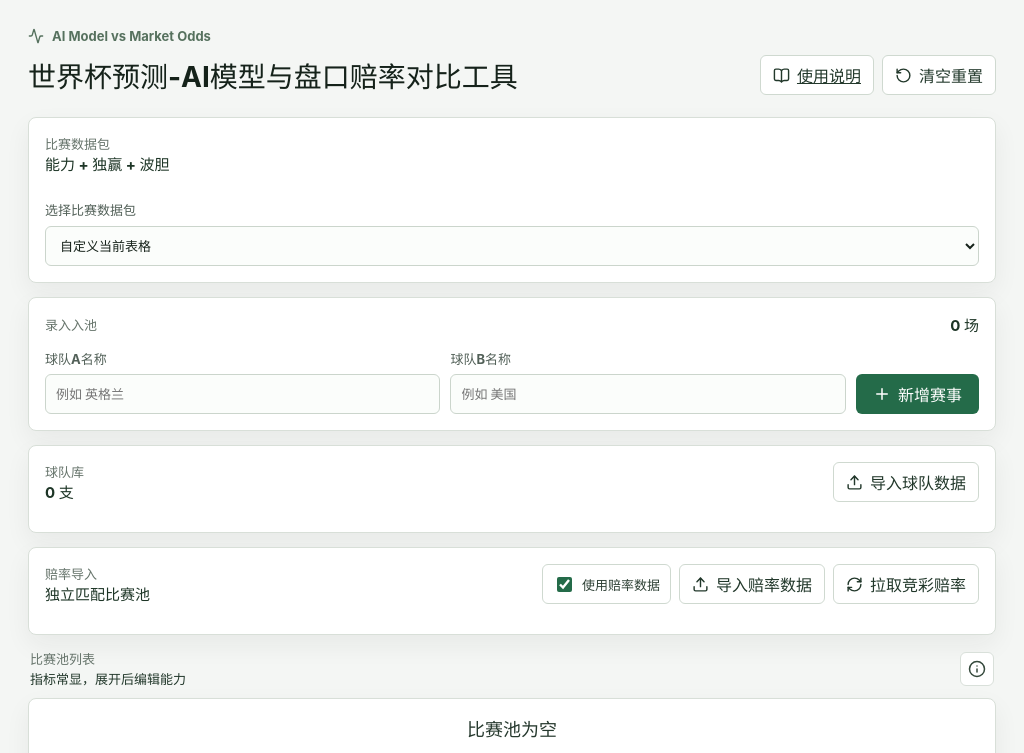
Test case: App › shows metric insights on collapsed match cards and opens the global guide modal
The width and height of the screenshot is (1024, 753).
Type "英格兰" into the field labelled "球队A名称". click: (243, 394)
box: [45, 374, 440, 414]
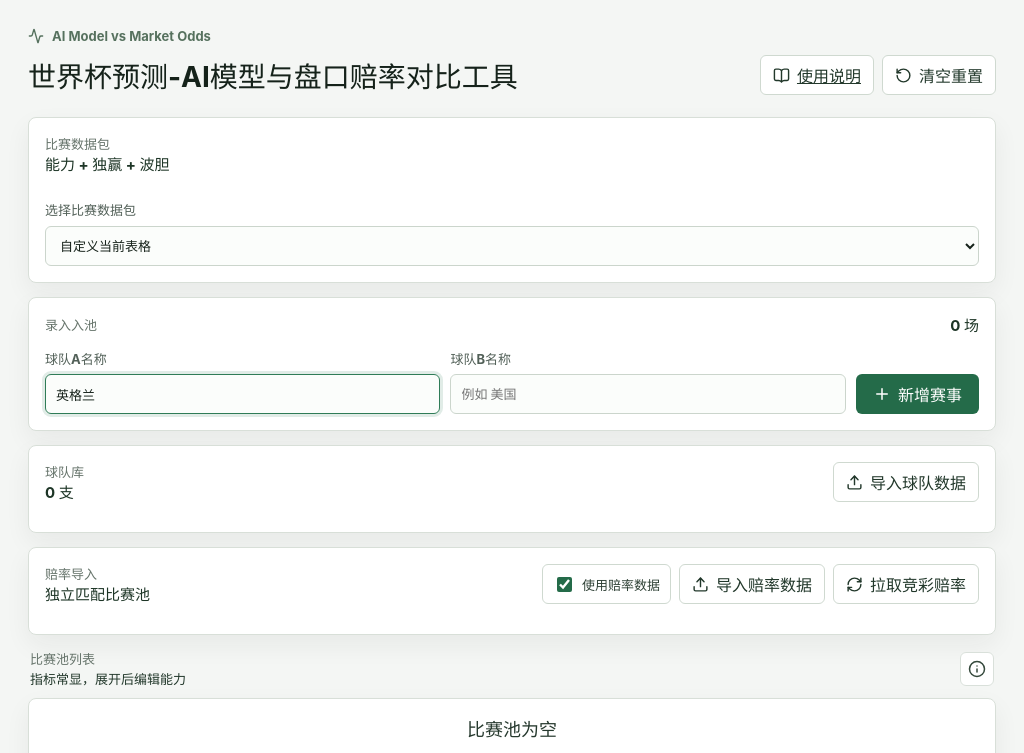
Type "克罗地亚" into the field labelled "球队B名称". click: (648, 394)
box: [450, 374, 846, 414]
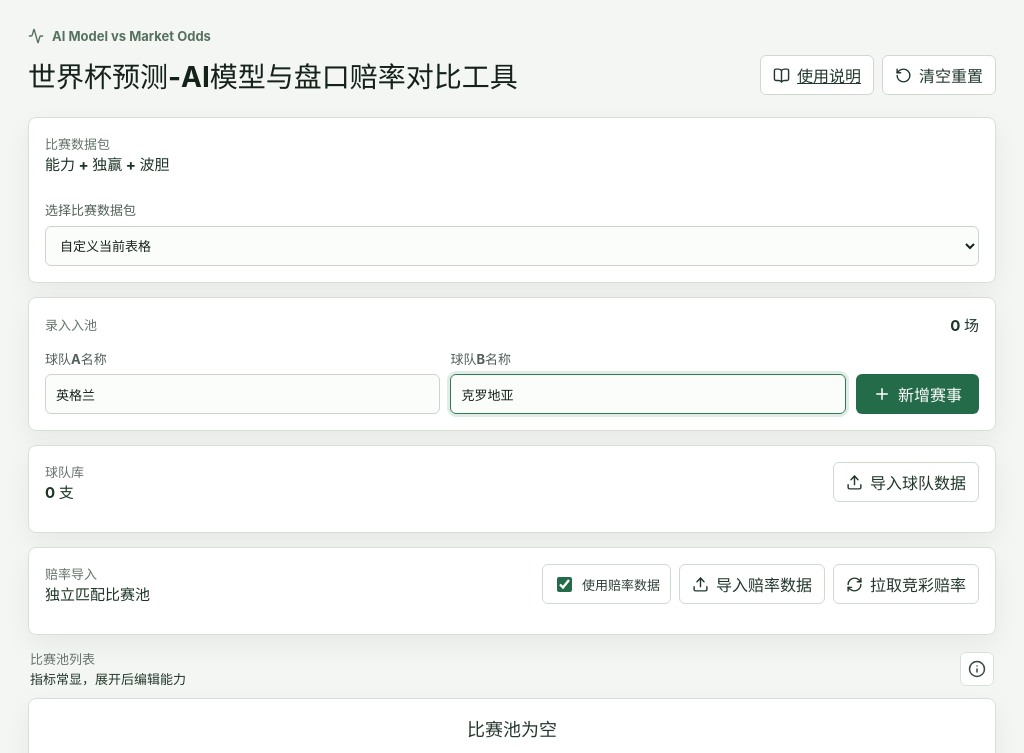
Click the button "新增赛事". click: (918, 394)
box: [856, 374, 979, 414]
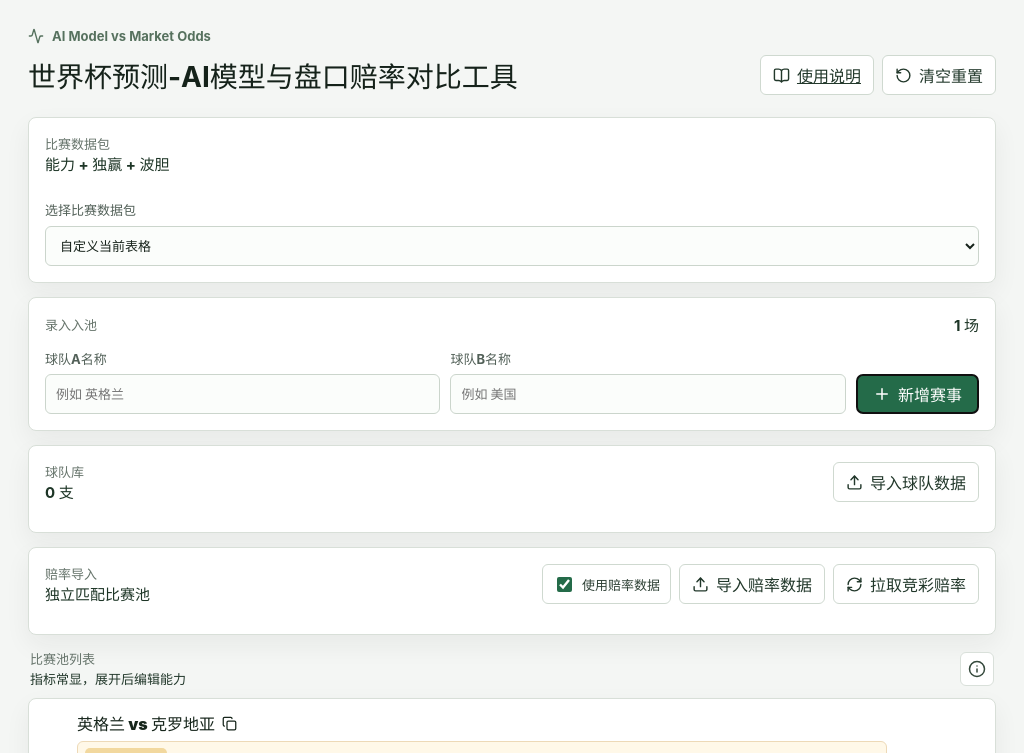
Click the button named "查看指标说明". click: (977, 668)
box: [960, 652, 994, 686]
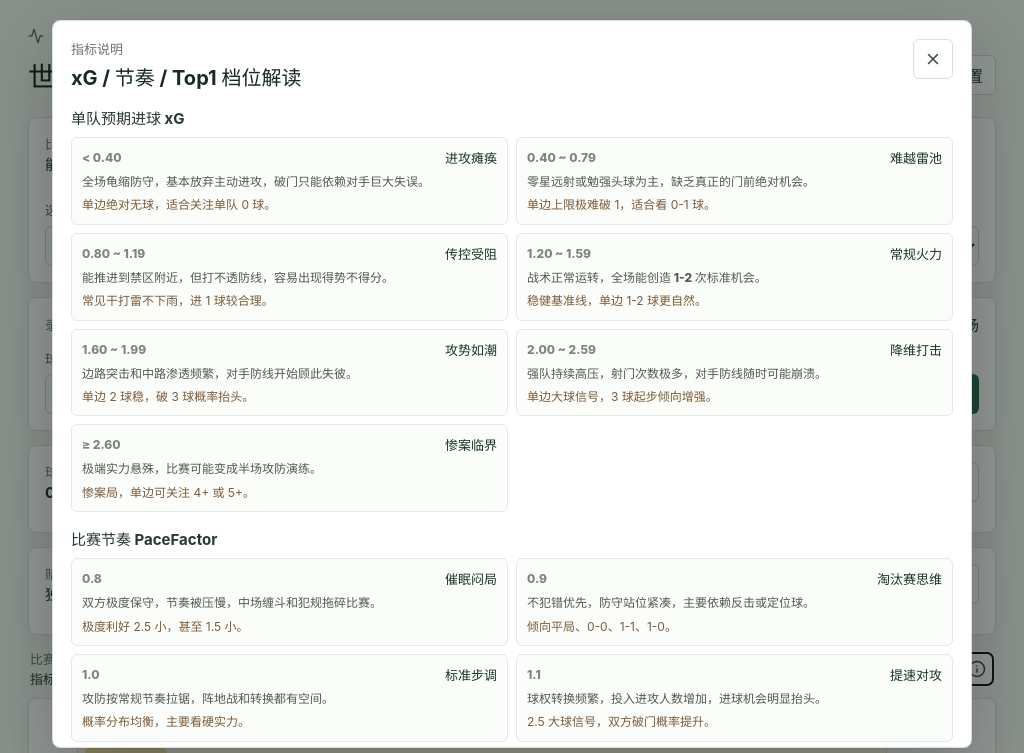
Now the dialog "指标说明" is shown
Now the heading "单队预期进球 xG" is shown, box [71, 109, 184, 128]
Now the heading "比赛节奏 PaceFactor" is shown, box [71, 530, 217, 549]
Click the button named "关闭指标说明". click: (933, 59)
box: [913, 39, 953, 79]
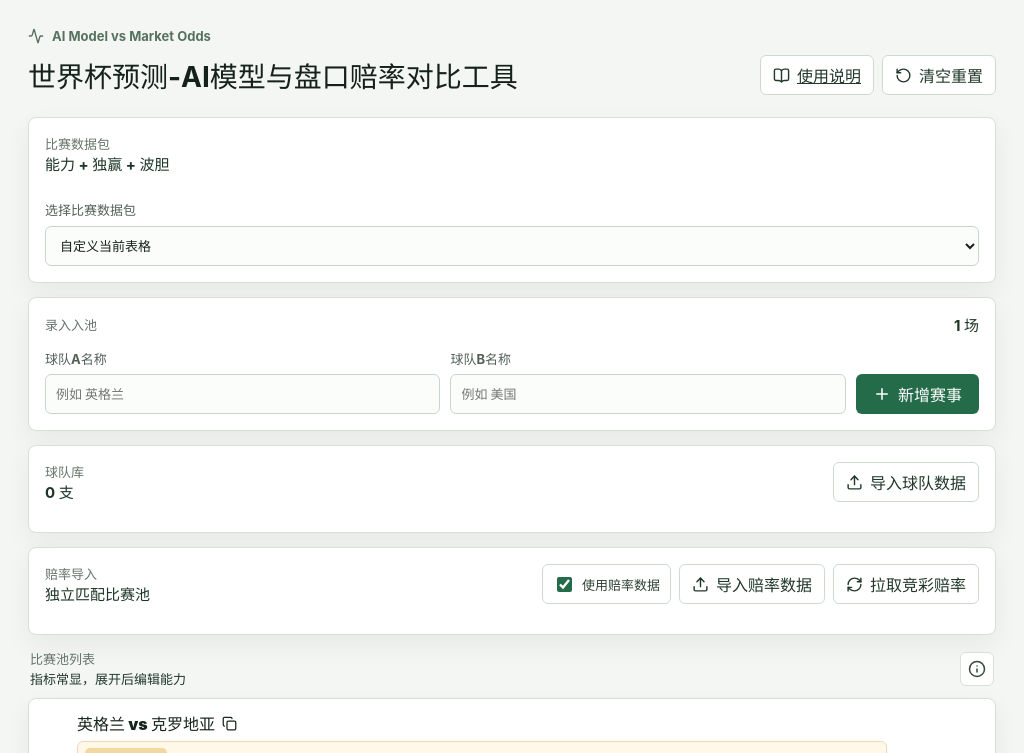
Now the text "指标说明" is gone
